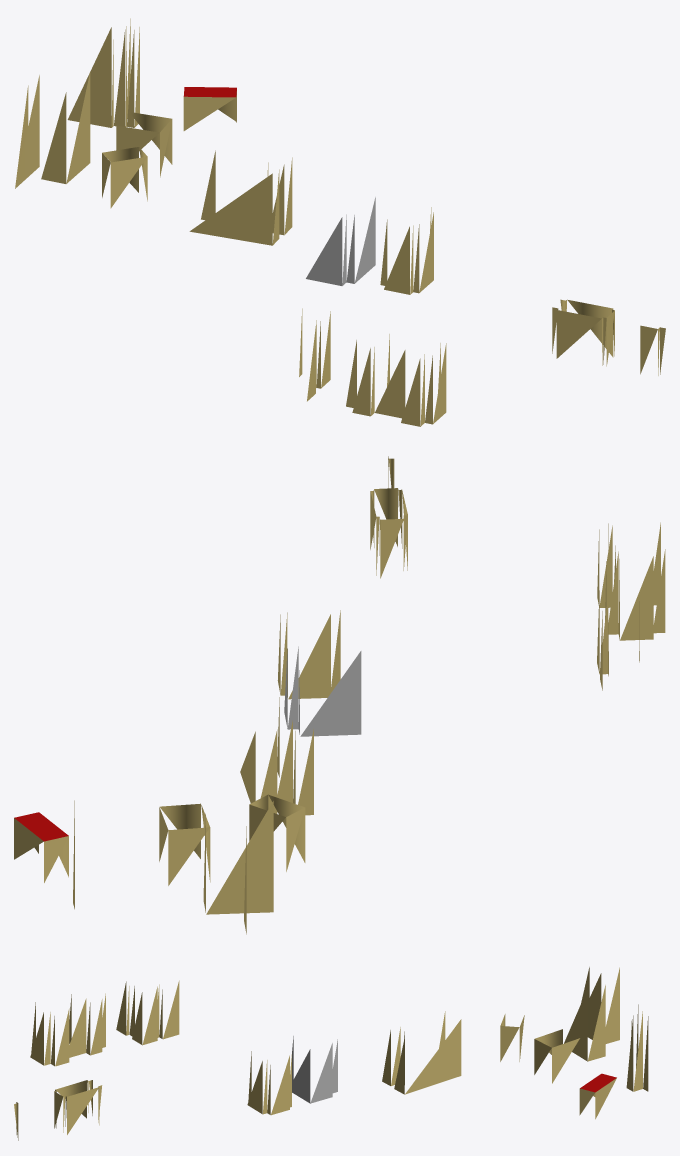
3 renders of one model, top to bottom at view 1: azimuth 30°, elevation 25°; view 2: azimuth 150°, elevation 25°; view 3: azimuth 270°, elevation 25°, orthographic. The views are drawn at different scales.
Size of the model in its own units: 266 by 87.5 by 647.
